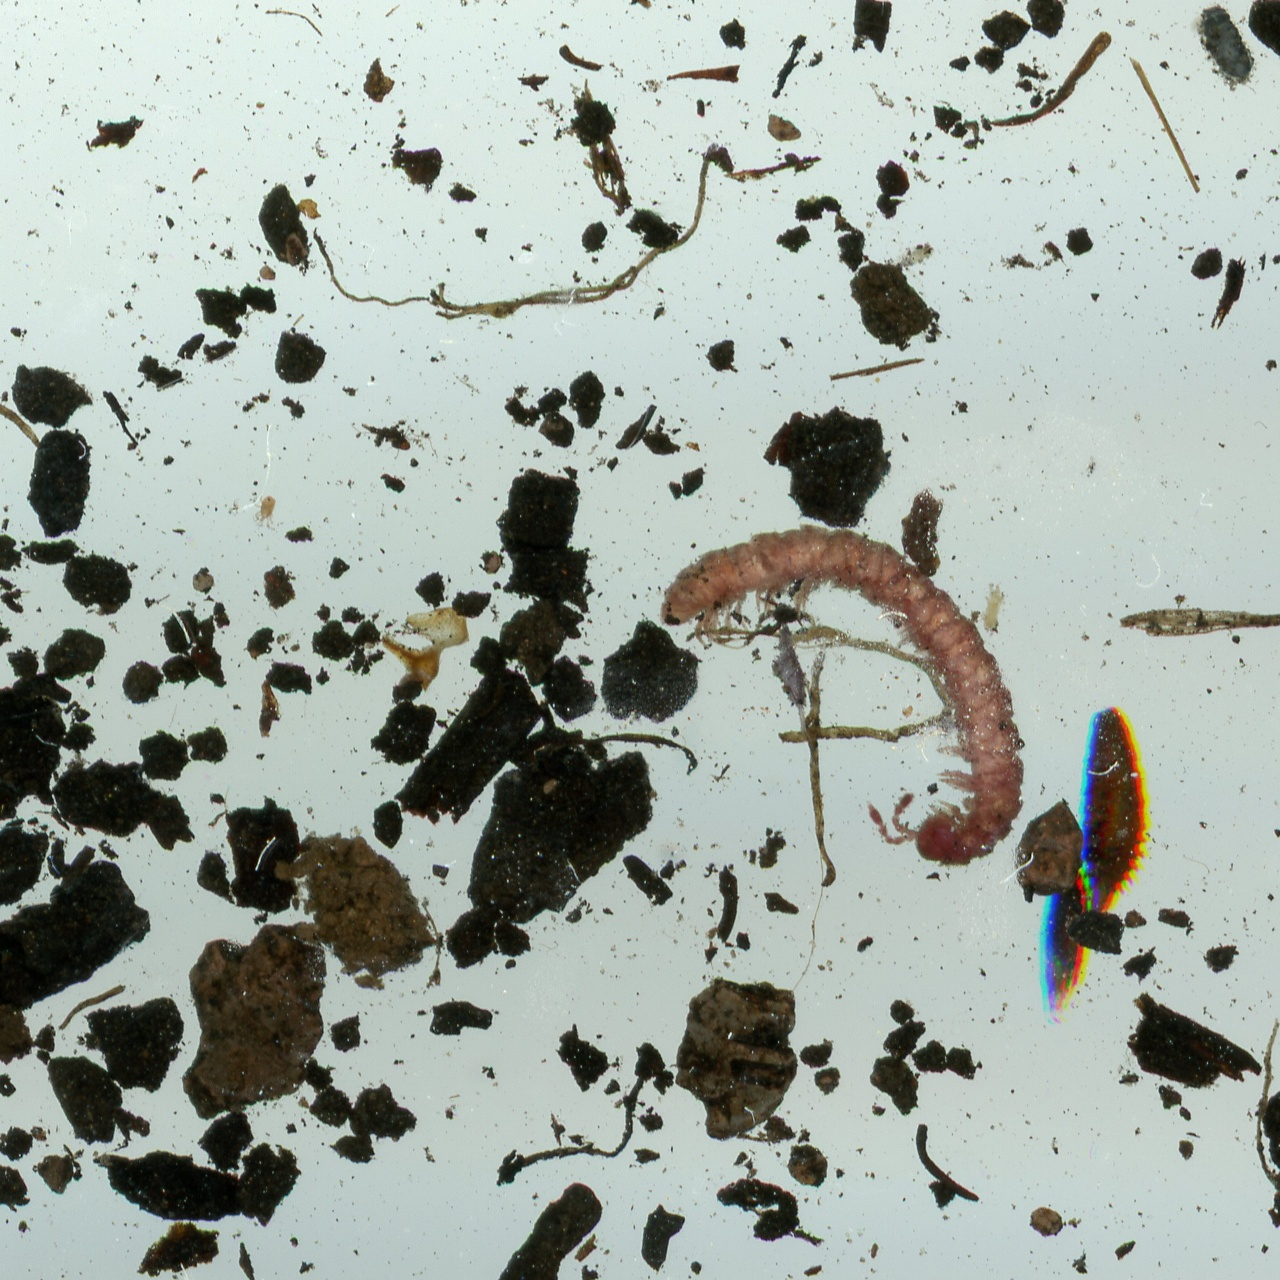arthropod: (653, 520, 1037, 878), (1074, 697, 1160, 915), (1179, 0, 1272, 103), (760, 615, 823, 749), (441, 0, 690, 22), (981, 580, 1008, 636), (250, 492, 280, 533)
